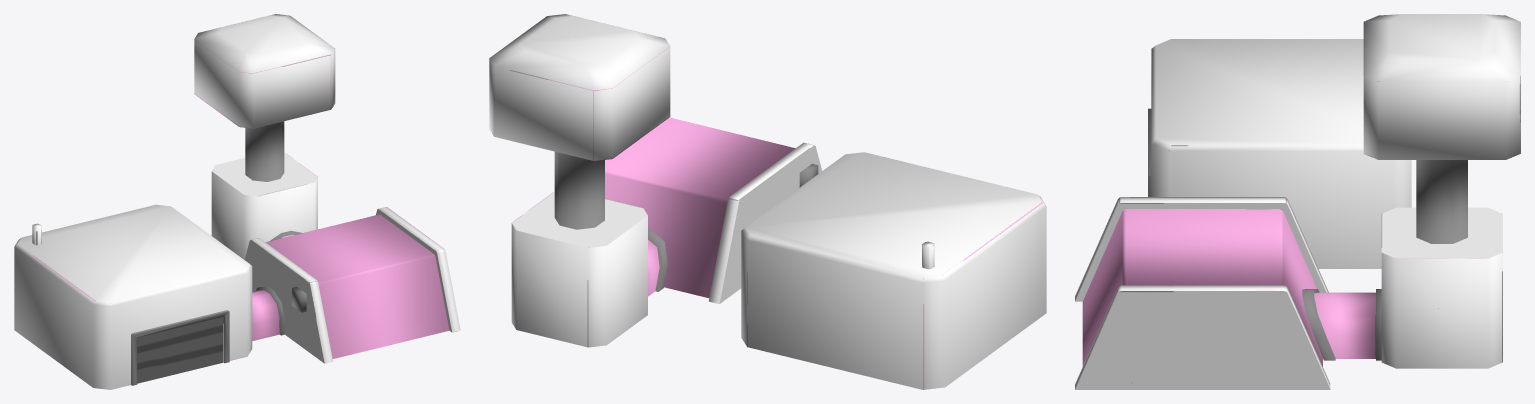
File: house.fbx
3 views of the same model, side by side, from view 1: azimuth 30°, elevation 25°; view 2: azimuth 150°, elevation 25°; view 3: azimuth 270°, elevation 25° (orthographic). The views are drawn at different scales.
Parts seen in each view (by area): view 1: house; view 2: house; view 3: house.
Part boxes in pixels (<box>): house: <box>14,14,460,389</box>; house: <box>489,14,1046,389</box>; house: <box>1075,14,1520,389</box>.
Bounding box in the file's own units: 3963 × 2463 × 3230.
Materials: 1 (1 with a texture image).
